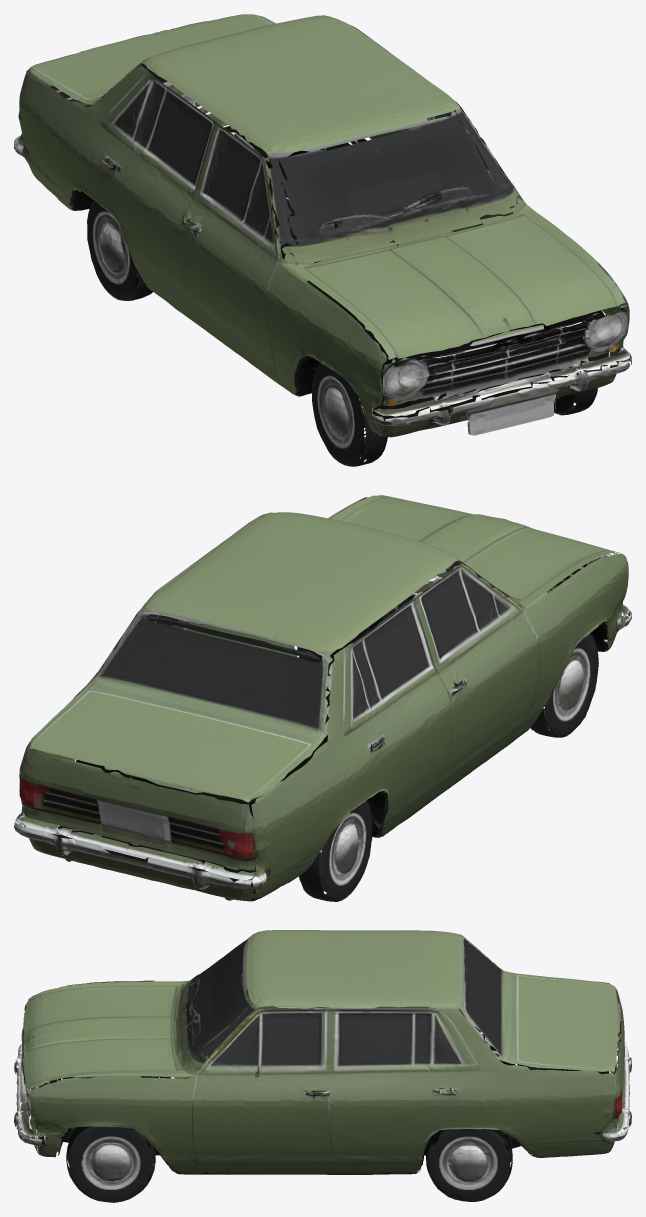
Rendered from opel_kadett.glb.
3 views of the same model, one above another, from view 1: azimuth 30°, elevation 25°; view 2: azimuth 150°, elevation 25°; view 3: azimuth 270°, elevation 25° (orthographic). The views are drawn at different scales.
Visible parts, largest first — view 1: model_0; view 2: model_0; view 3: model_0.
Boxes of the visible parts, x1,y1,x2,y2 form: model_0: (14,14,631,466); model_0: (14,495,631,901); model_0: (14,930,631,1202).
Size of the model in its own units: 0.4139 by 0.3482 by 0.999.
1 material, 1 textured.
